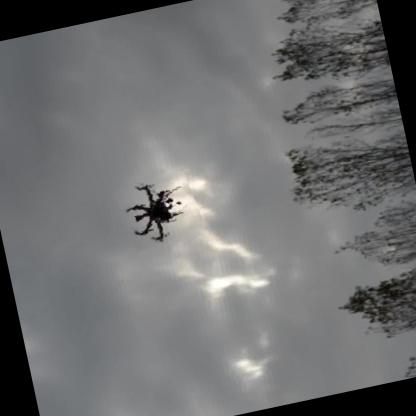drone: (114, 166, 205, 251)
